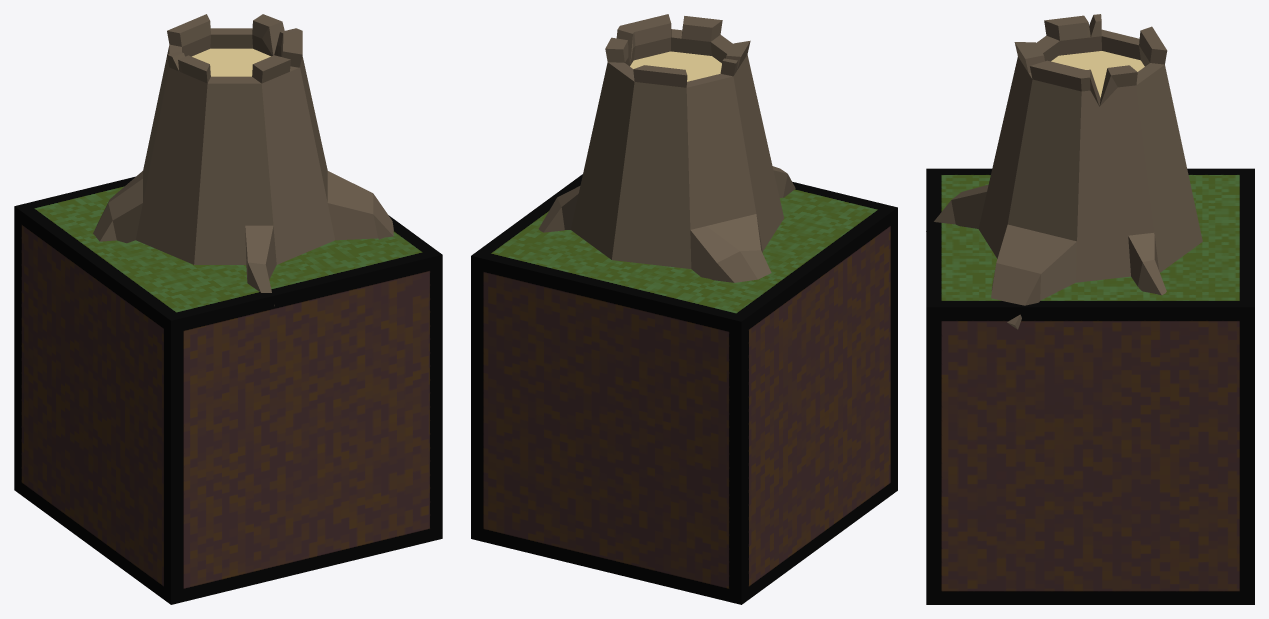
The model's file is TreeStumpMarsh3.glb.
3 views of the same model, side by side, from view 1: azimuth 30°, elevation 25°; view 2: azimuth 150°, elevation 25°; view 3: azimuth 270°, elevation 25° (orthographic). The views are drawn at different scales.
Parts seen in each view (by area): view 1: DarkGrass.Baked, Cylinder.001; view 2: DarkGrass.Baked, Cylinder.001; view 3: DarkGrass.Baked, Cylinder.001.
Boxes of the visible parts, x1,y1,x2,y2 form: DarkGrass.Baked: [14, 176, 442, 604]; Cylinder.001: [93, 14, 393, 306]; DarkGrass.Baked: [471, 174, 897, 604]; Cylinder.001: [538, 14, 795, 282]; DarkGrass.Baked: [926, 168, 1254, 604]; Cylinder.001: [926, 14, 1202, 329].
Size of the model in its own units: 0.9941 by 1.62 by 0.9811.
3 materials, 1 textured.
